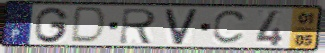4: (254, 8, 286, 47)
C: (210, 9, 250, 46)
D: (68, 6, 109, 46)
G: (33, 6, 71, 44)
R: (118, 7, 160, 45)
V: (163, 8, 201, 46)
